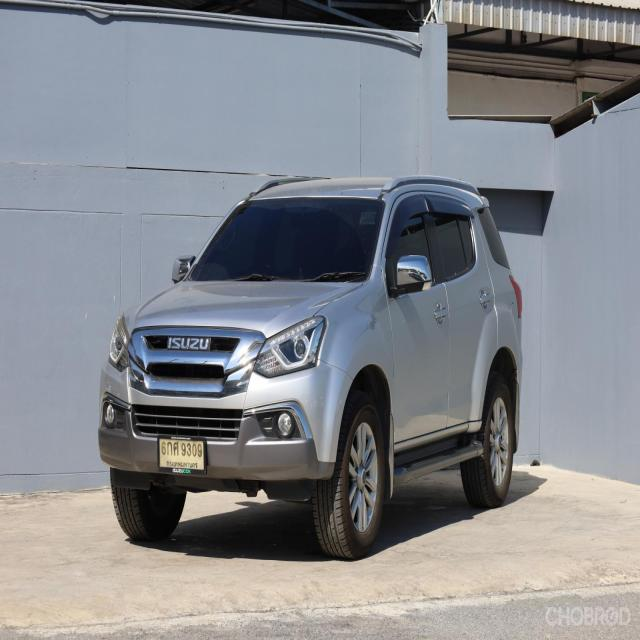license_plate: (156, 433, 208, 476)
